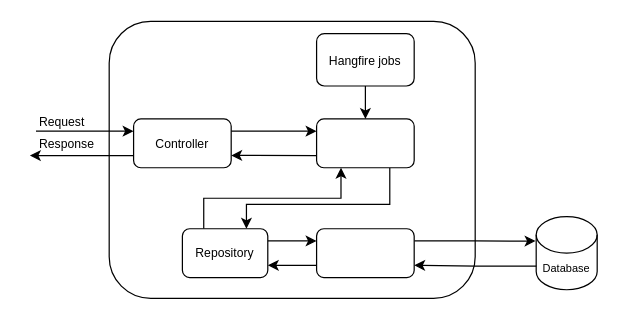
Image size: 620x320. Some labels were removed from this diagram. The shapes that lost their labels are listed below. From the top down, each one's box as (x1, y1, x2, y2) in pixels, then its label:
(315, 118, 414, 168): Service
(315, 228, 414, 278): Model
